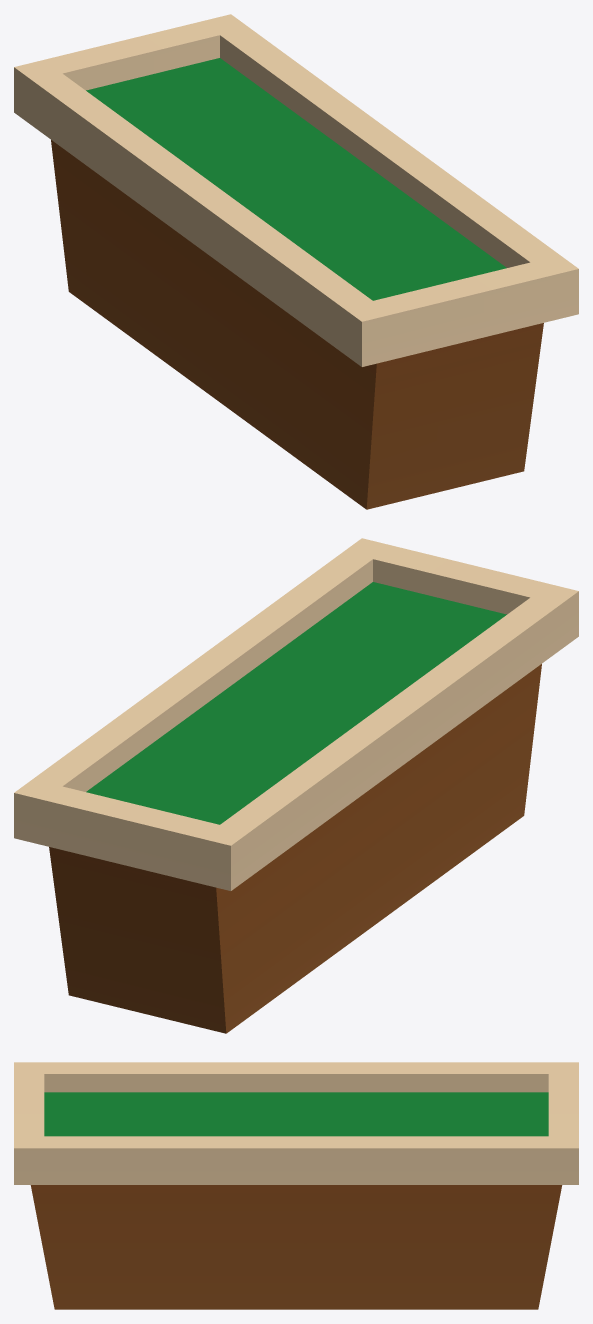
The model's file is FlowerPot_5_2_B.fbx.
3 renders of one model, top to bottom at view 1: azimuth 30°, elevation 25°; view 2: azimuth 150°, elevation 25°; view 3: azimuth 270°, elevation 25°, orthographic. The views are drawn at different scales.
Visible parts, largest first — view 1: FlowerPot_5_2_B; view 2: FlowerPot_5_2_B; view 3: FlowerPot_5_2_B.
Boxes of the visible parts, x1,y1,x2,y2 form: FlowerPot_5_2_B: (14, 14, 578, 509); FlowerPot_5_2_B: (14, 538, 578, 1033); FlowerPot_5_2_B: (14, 1062, 578, 1309).
Size of the model in its own units: 32.46 by 30.52 by 90.14.
